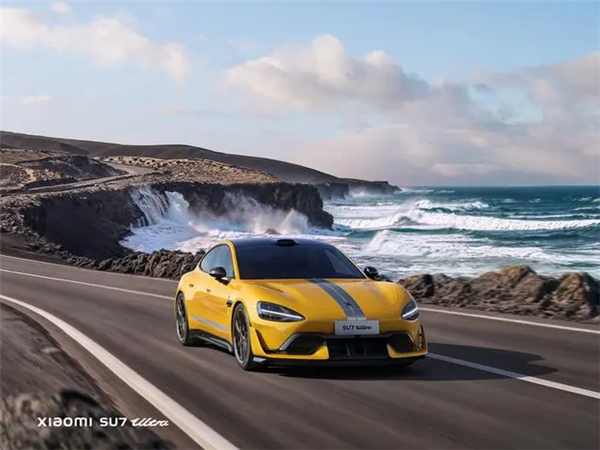su7: (169, 238, 428, 366)
